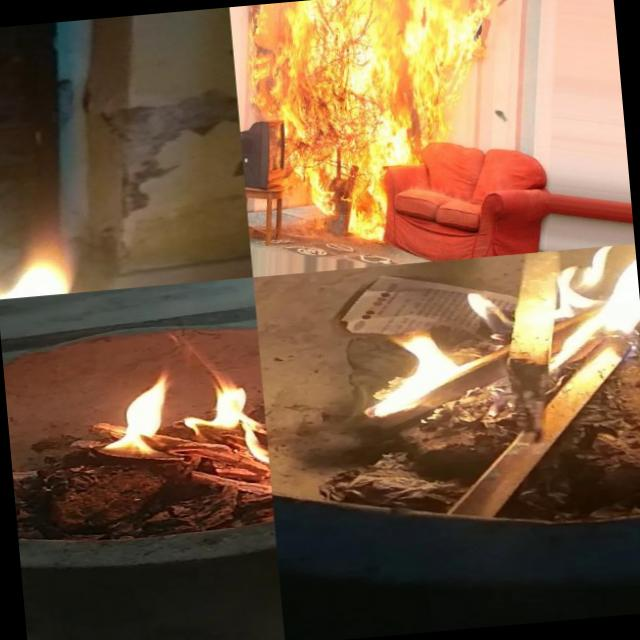fire: (356, 243, 640, 439), (246, 0, 390, 246), (81, 360, 272, 520), (368, 0, 510, 115), (0, 206, 75, 300), (380, 112, 422, 165), (418, 110, 449, 145)
